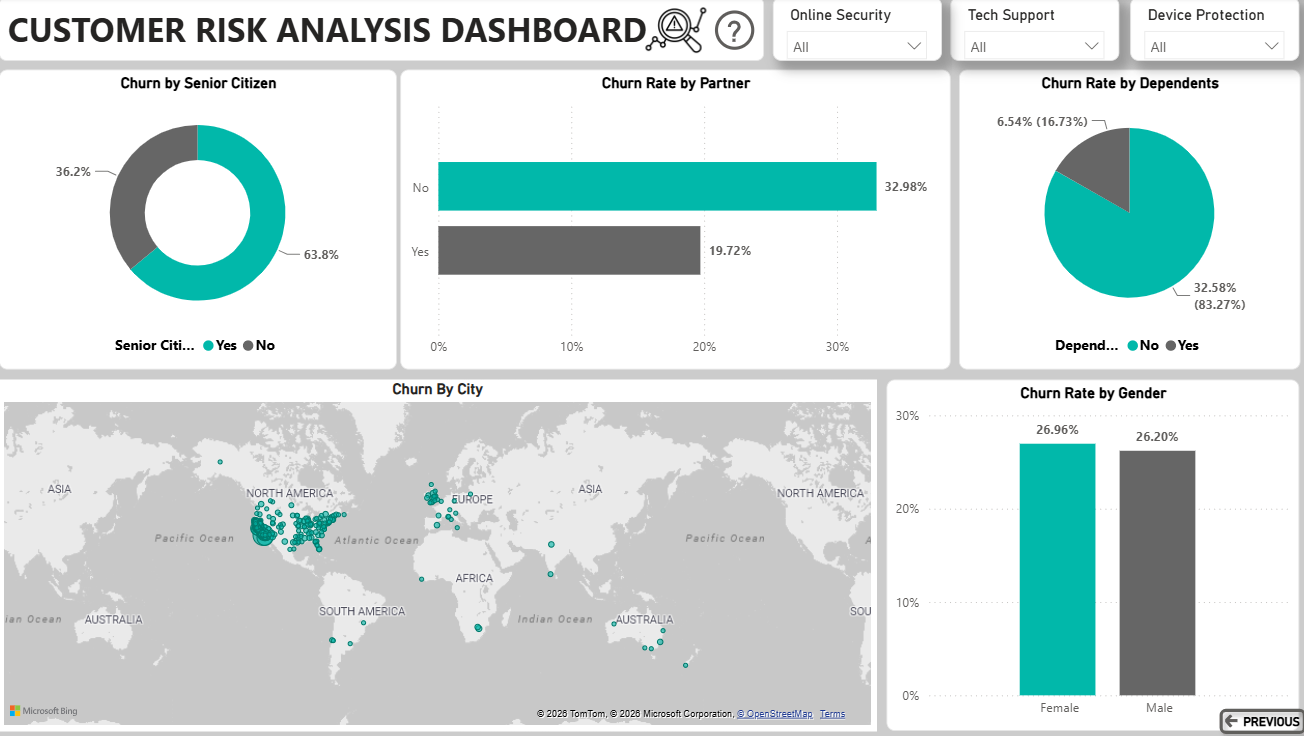

Layout of this report page (visuals, bound fields, positions):
{"tool":"powerbi","page":{"name":"Customer Risk Analysis","canvas":[1280,720],"ordinal":1},"visuals":[{"type":"donutChart","title":"Churn by Senior Citizen","fields":{"Category":["raw_data___Copy.Senior Citizen"],"Y":["raw_data___Copy.Churn Rate"]},"box":[9.7,70,383.6,289.5],"z":0},{"type":"clusteredBarChart","fields":{"Category":["raw_data___Copy.Partner"],"Y":["raw_data___Copy.Churn Rate"]},"box":[396.9,70,530.8,289.5],"z":1000},{"type":"pieChart","fields":{"Category":["raw_data___Copy.Dependents"],"Y":["raw_data___Copy.Churn Rate"]},"box":[936.2,70,329.4,289.5],"z":2000},{"type":"map","title":"Churn By City","fields":{"Category":["raw_data___Copy.City"],"Size":["raw_data___Copy.Churned Customers"]},"box":[9.7,369.2,846.9,339],"z":3000},{"type":"slicer","fields":{"Values":["raw_data___Copy.Tech Support"]},"box":[927.8,0,162.9,61.5],"z":4000},{"type":"slicer","fields":{"Values":["raw_data___Copy.Online Security"]},"box":[756.4,0,162.9,61.5],"z":5000},{"type":"slicer","fields":{"Values":["raw_data___Copy.Device Protection"]},"box":[1101.5,0,162.9,61.5],"z":6000},{"type":"clusteredColumnChart","fields":{"Category":["raw_data___Copy.Gender"],"Y":["raw_data___Copy.Churn Rate"]},"box":[866.2,369.2,398.1,339],"z":7000},{"type":"textbox","box":[9.7,0,738.3,61.5],"z":8000},{"type":"image","box":[631,1.2,63.9,61.5],"z":9000},{"type":"actionButton","box":[1178.7,678,101.3,42.2],"z":10000},{"type":"actionButton","box":[694.9,7.2,115.8,49.5],"z":10001}]}

Visuals, with their boxes in screenshot pixels (x1, y1, x2, y2), scaled from the page's 1280x720 canvas onto the 1304x736 screenshot:
"Churn by Senior Citizen" donutChart: 10,72,401,367
clusteredBarChart - raw_data___Copy.Partner x raw_data___Copy.Churn Rate: 404,72,945,367
pieChart - raw_data___Copy.Dependents x raw_data___Copy.Churn Rate: 954,72,1289,367
"Churn By City" map: 10,377,873,724
slicer - raw_data___Copy.Tech Support: 945,0,1111,63
slicer - raw_data___Copy.Online Security: 771,0,937,63
slicer - raw_data___Copy.Device Protection: 1122,0,1288,63
clusteredColumnChart - raw_data___Copy.Gender x raw_data___Copy.Churn Rate: 882,377,1288,724
textbox: 10,0,762,63
image: 643,1,708,64
actionButton: 1201,693,1303,735
actionButton: 708,7,826,58
